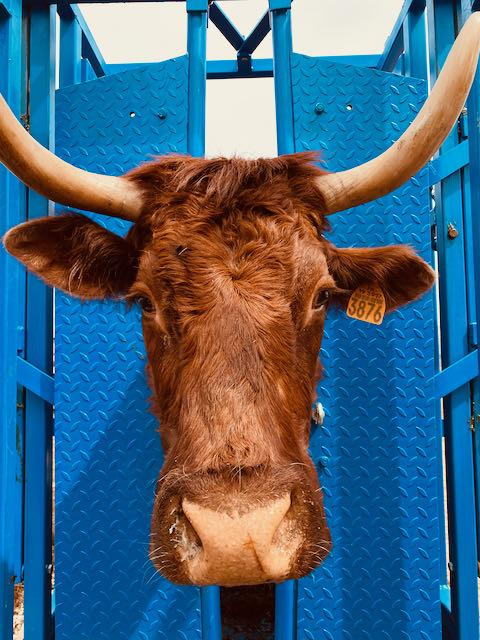muzzles: (140, 485, 337, 591)
